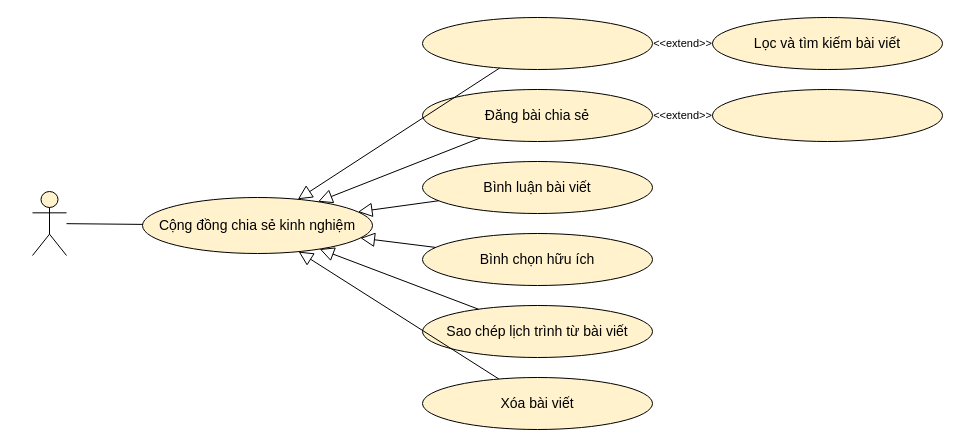
Image size: 960x447. Some labels were removed from this diagram. The shapes that lost their labels are listed below. From the top down, each one's centre as x and y in pixels, then its label:
[537,43]: Xem bảng tin bài viết
[827,115]: Tạo bản review bằng AI
[49,223]: Người dùng
